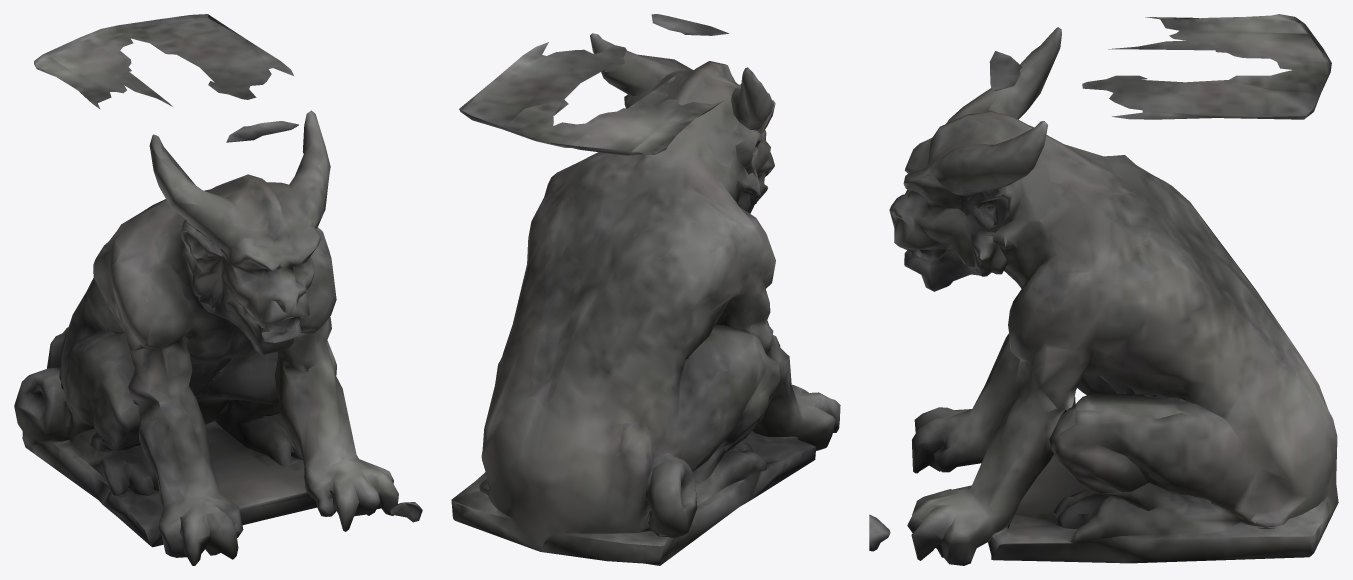
File: ancient-granite-gargoyle-v001.glb
3 renders of one model, left to right at view 1: azimuth 30°, elevation 25°; view 2: azimuth 150°, elevation 25°; view 3: azimuth 270°, elevation 25°, orthographic. The views are drawn at different scales.
Parts seen in each view (by area): view 1: ancient-granite-gargoyle; view 2: ancient-granite-gargoyle; view 3: ancient-granite-gargoyle.
Boxes of the visible parts, x1,y1,x2,y2 form: ancient-granite-gargoyle: (14,14,422,565); ancient-granite-gargoyle: (451,14,840,565); ancient-granite-gargoyle: (869,14,1338,565).
Size of the model in its own units: 0.635 by 1.01 by 0.9718.
Materials: 1 (1 with a texture image).
